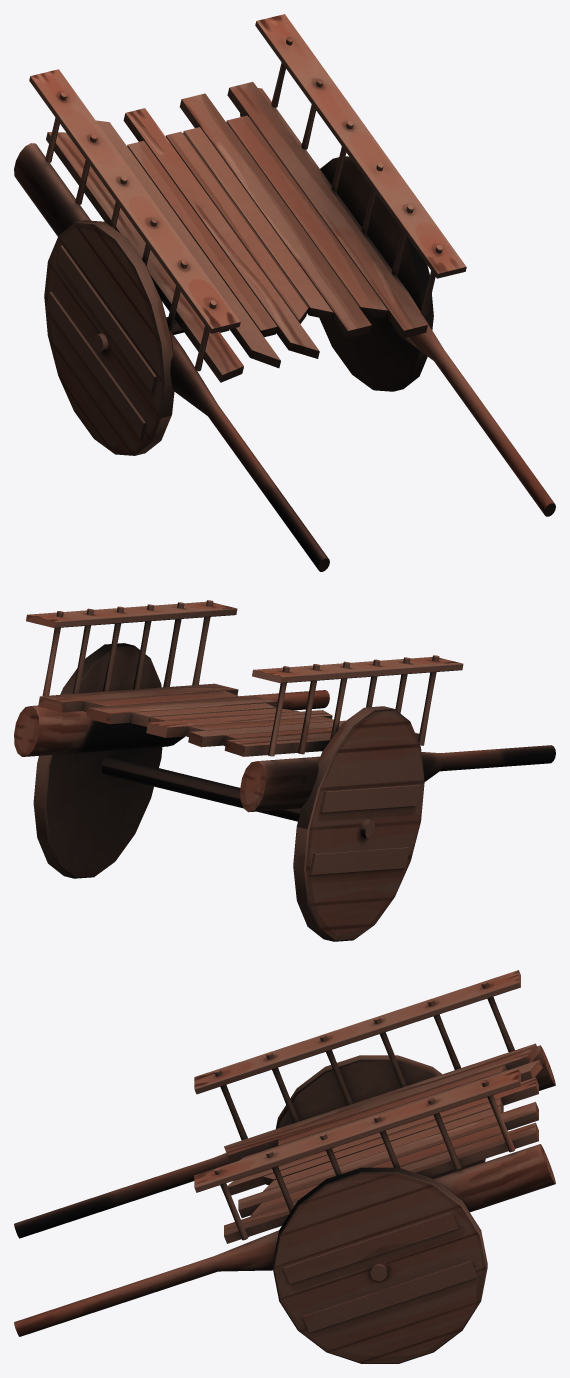
The model's file is wagon.FBX.
3 renders of one model, top to bottom at view 1: azimuth 30°, elevation 25°; view 2: azimuth 150°, elevation 25°; view 3: azimuth 270°, elevation 25°, orthographic. The views are drawn at different scales.
Parts seen in each view (by area): view 1: Plane607; view 2: Plane607; view 3: Plane607.
Boxes of the visible parts, bbox=[...] form: Plane607: bbox=[14, 14, 555, 571]; Plane607: bbox=[14, 600, 555, 941]; Plane607: bbox=[14, 970, 555, 1363].
Bounding box in the file's own units: 178 × 332 × 189.
